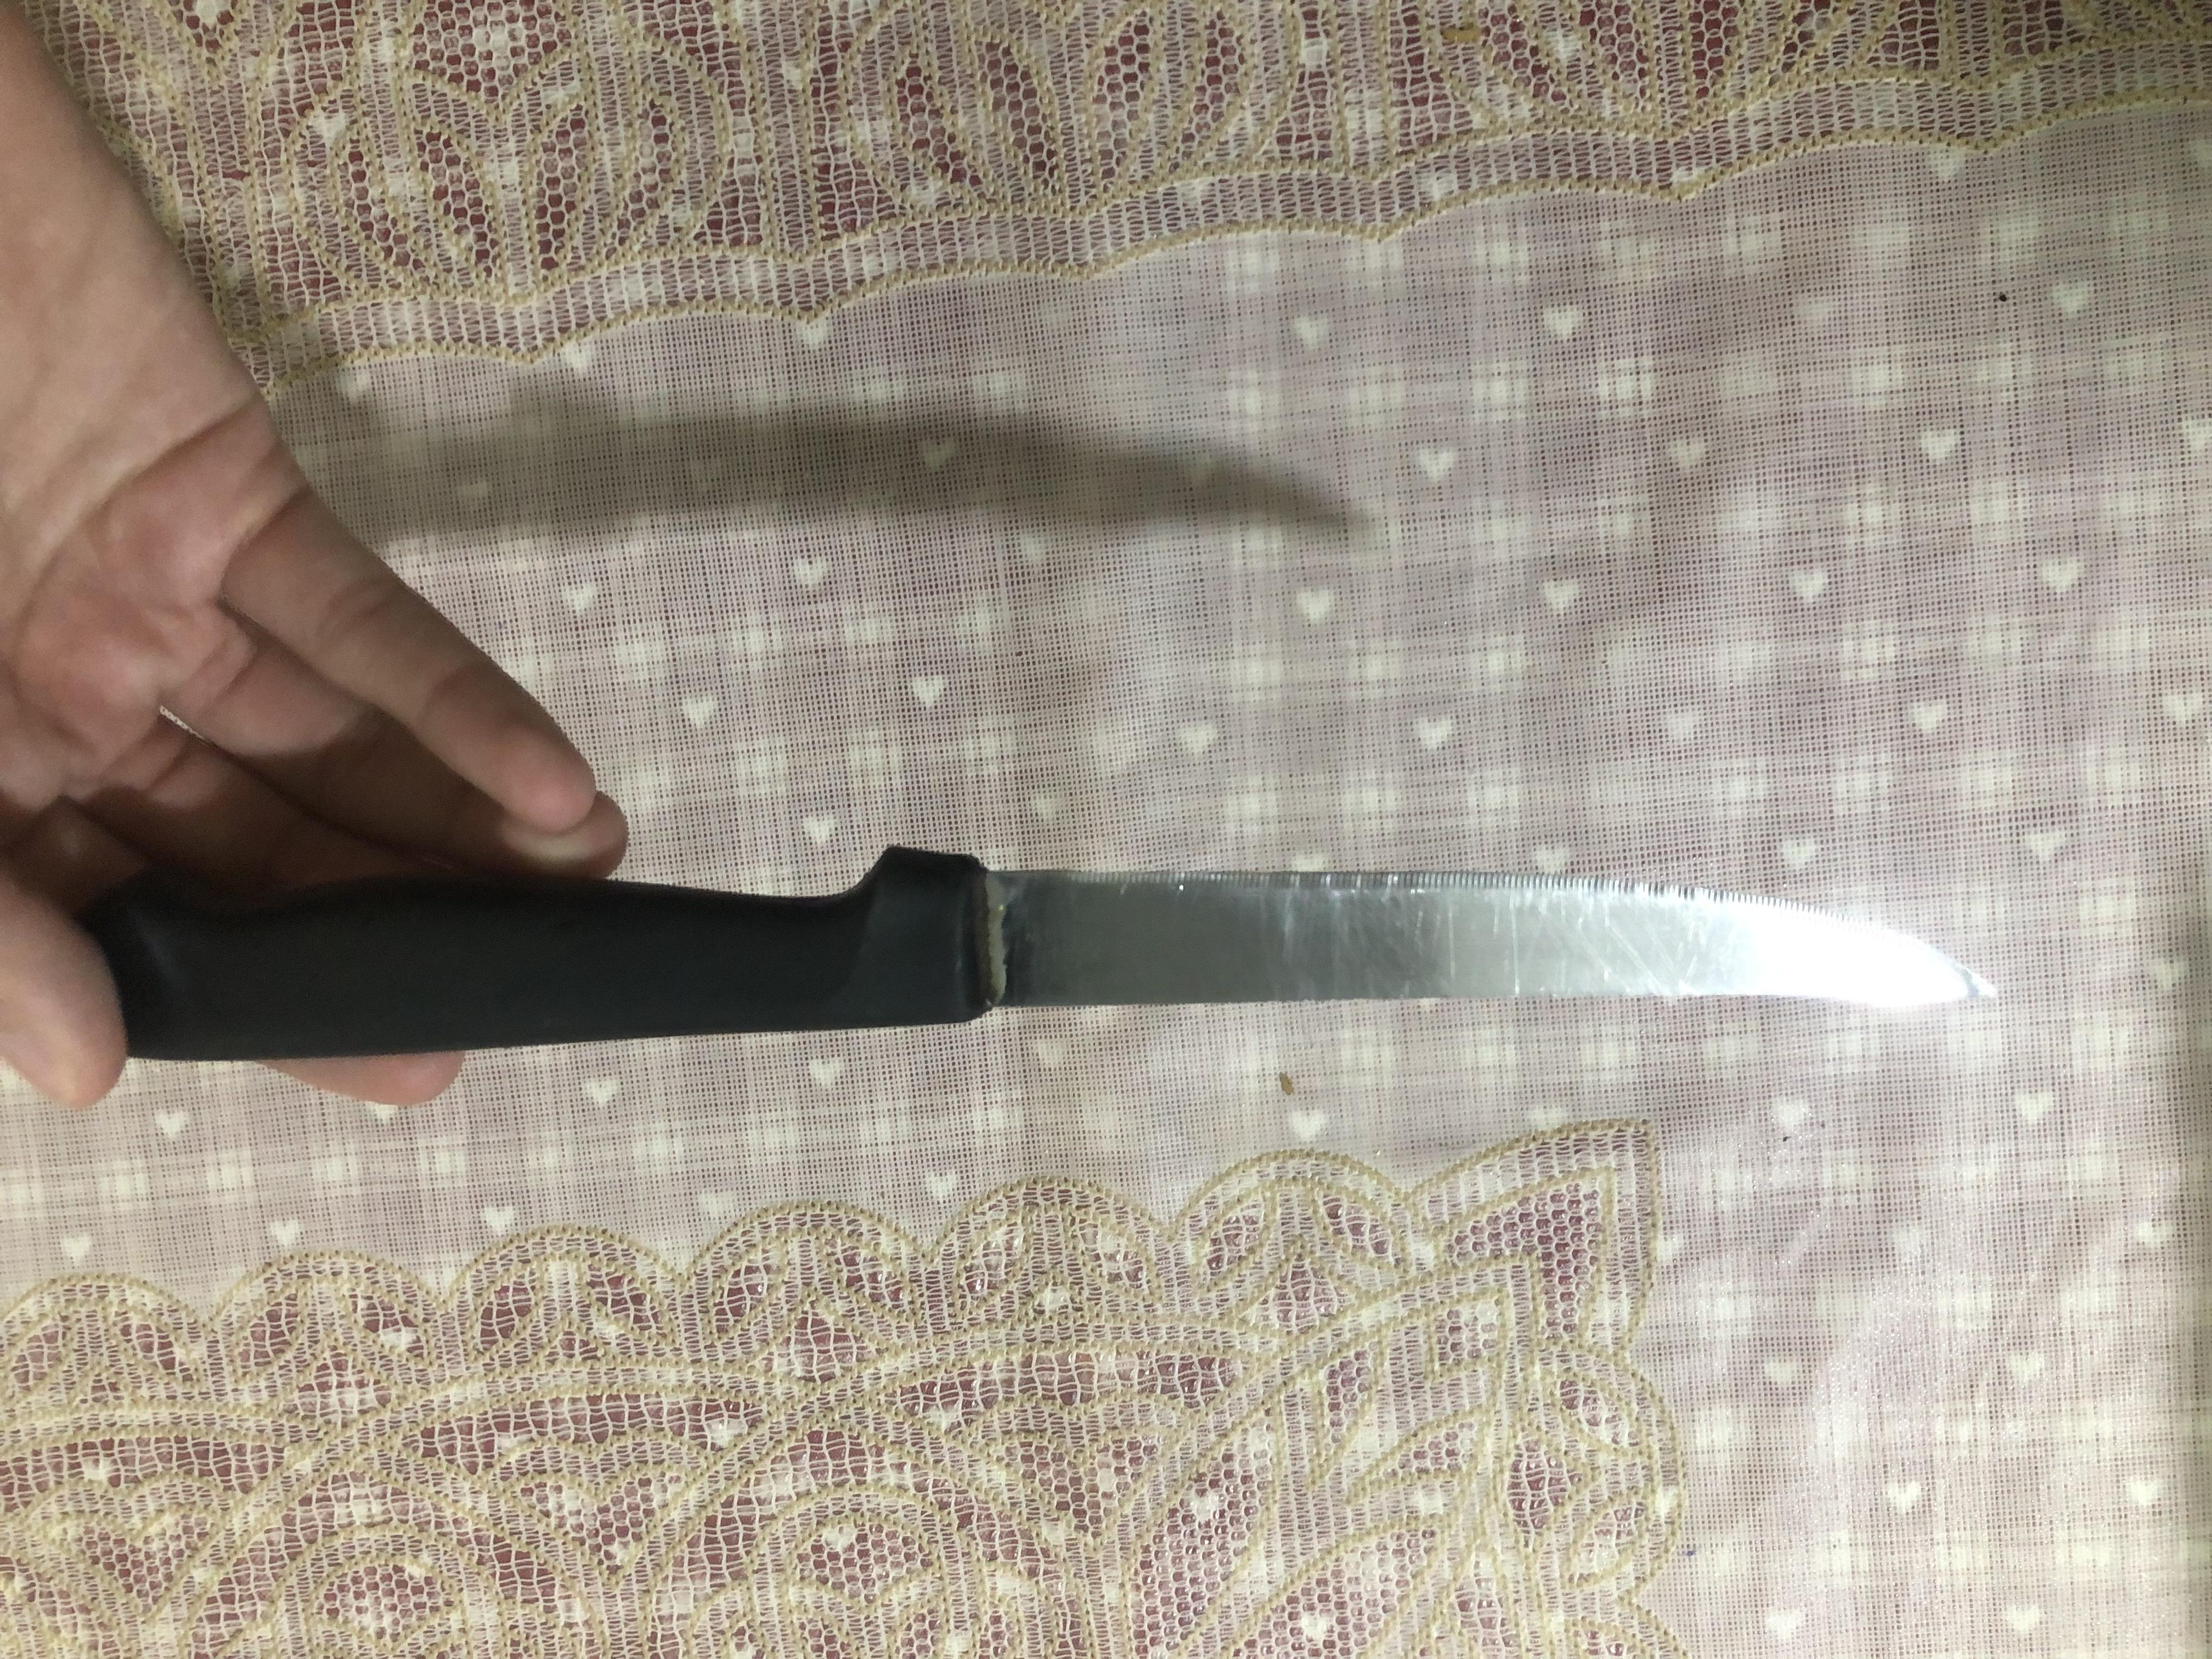weapon: (788, 54, 1099, 1483)
